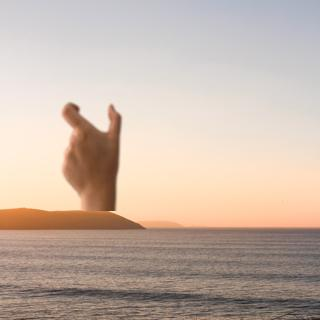Irritated: (52, 92, 134, 204)
